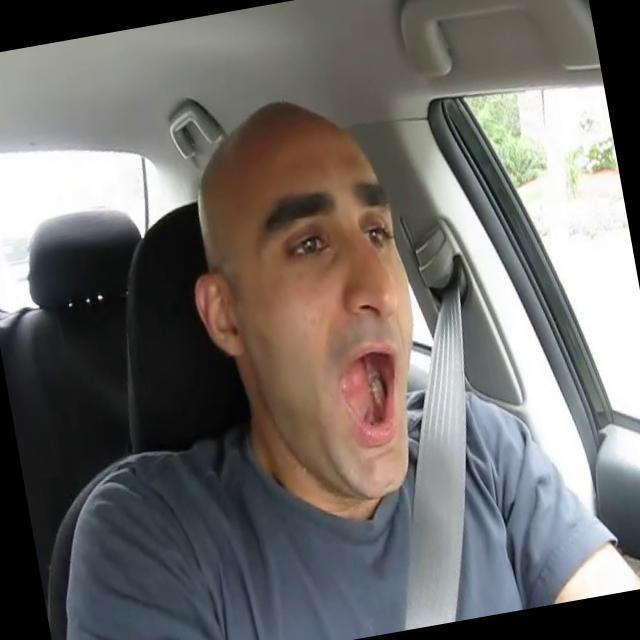open-mouth: (336, 344, 400, 442)
